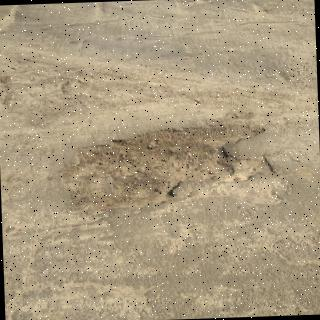pothole: (61, 122, 276, 214)
